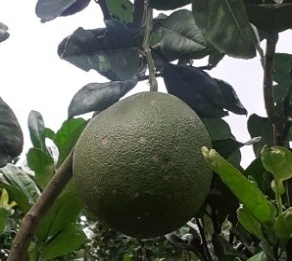Buoi: (70, 87, 215, 240)
